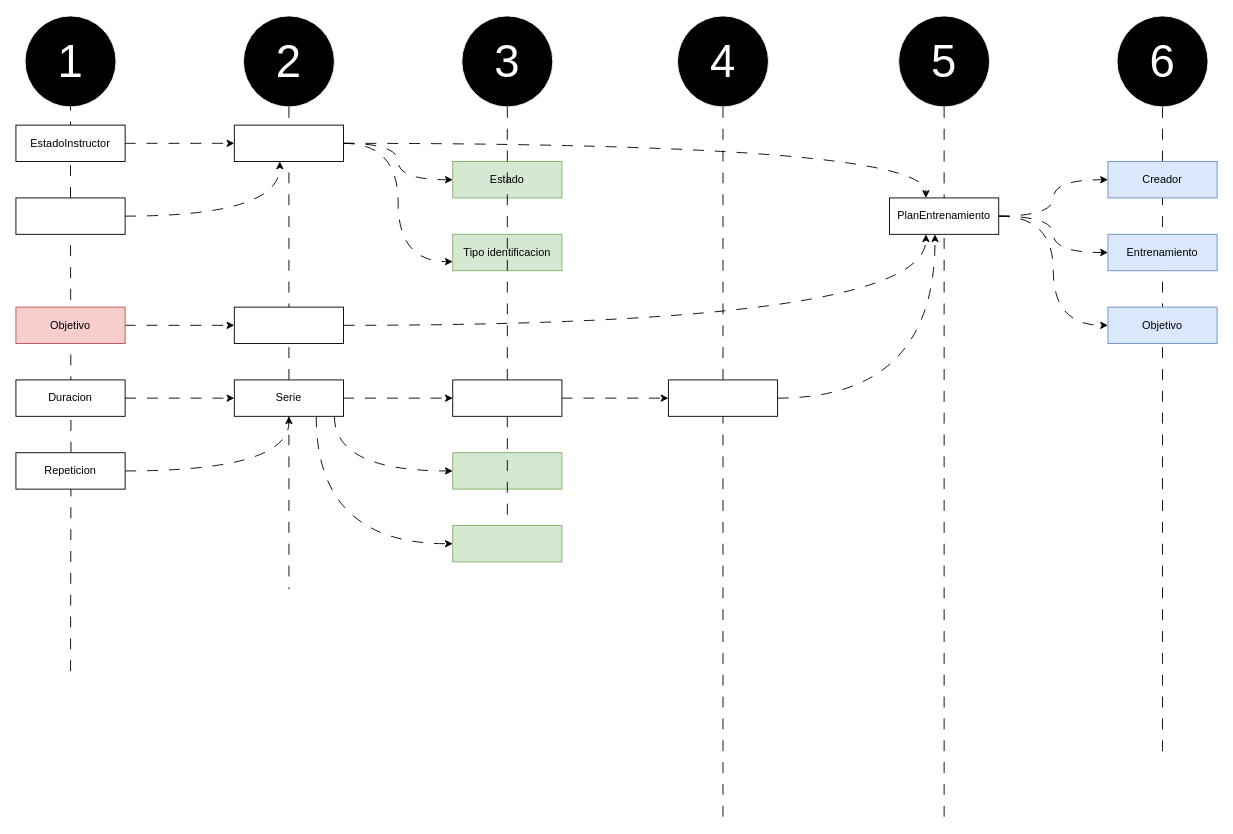
Image size: 1233x834. Some labels were removed from this diagram. The shapes that lost their labels are listed below. From the top down, each one's centre as x and y in pixels, then its label:
At [288,143]: "Instructor".
At [70,215]: "TipoIdentificacion".
At [288,325]: "Plan Objetivo".
At [507,397]: "Ejercicio".
At [722,397]: "Rutina".
At [507,470]: "Tiempo".
At [507,543]: "Cantidad".
